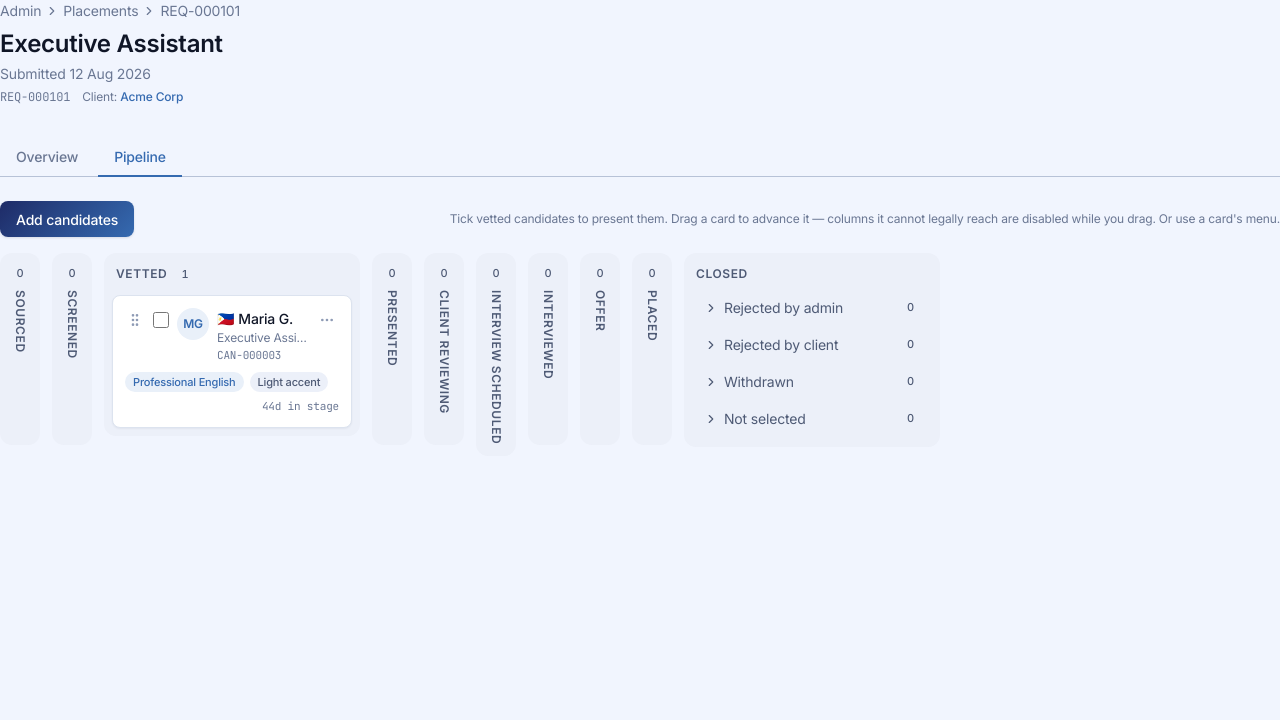
Test case: present flow › renders the exact client preview: visible fields, withheld PII, files
This screenshot has width=1280, height=720.
Check: the text "Maria G." is shown, box [238,310,293,327]
Step 1. Click the checkbox → (161, 320), box [153,312,169,328]
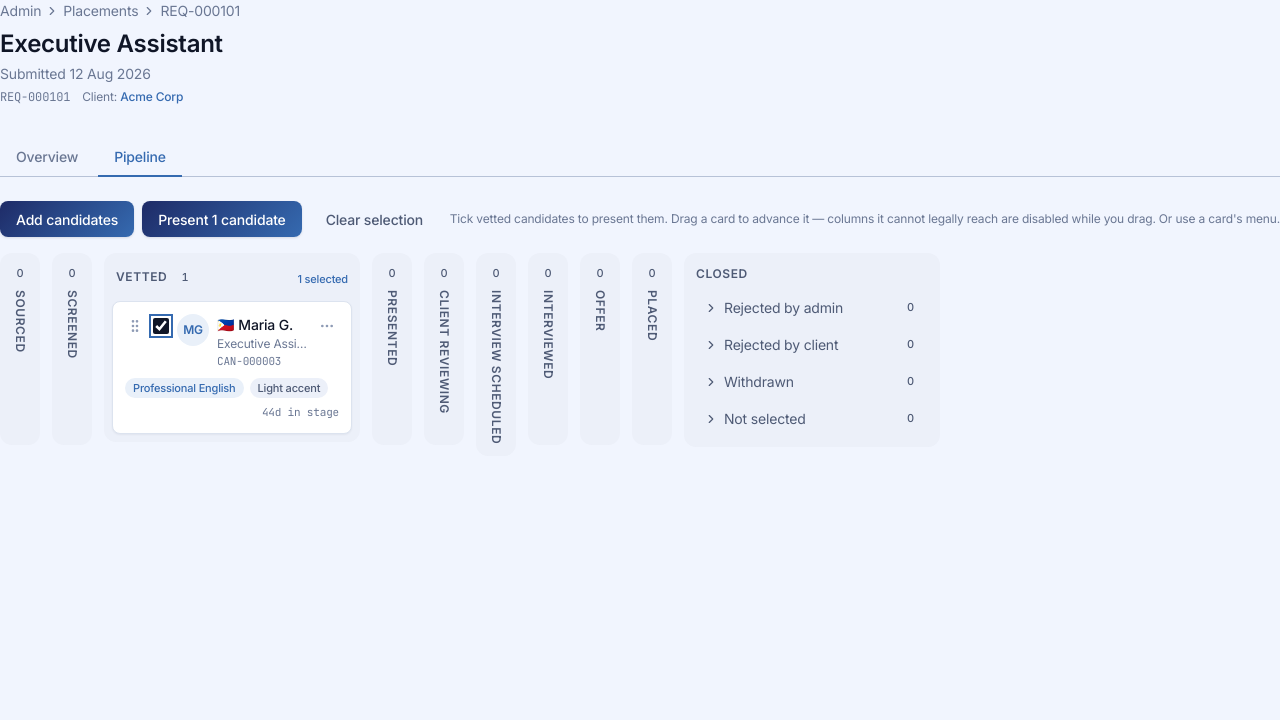
Step 2. Click the button "Present 1 candidate" → (222, 219), box [142,201,302,237]
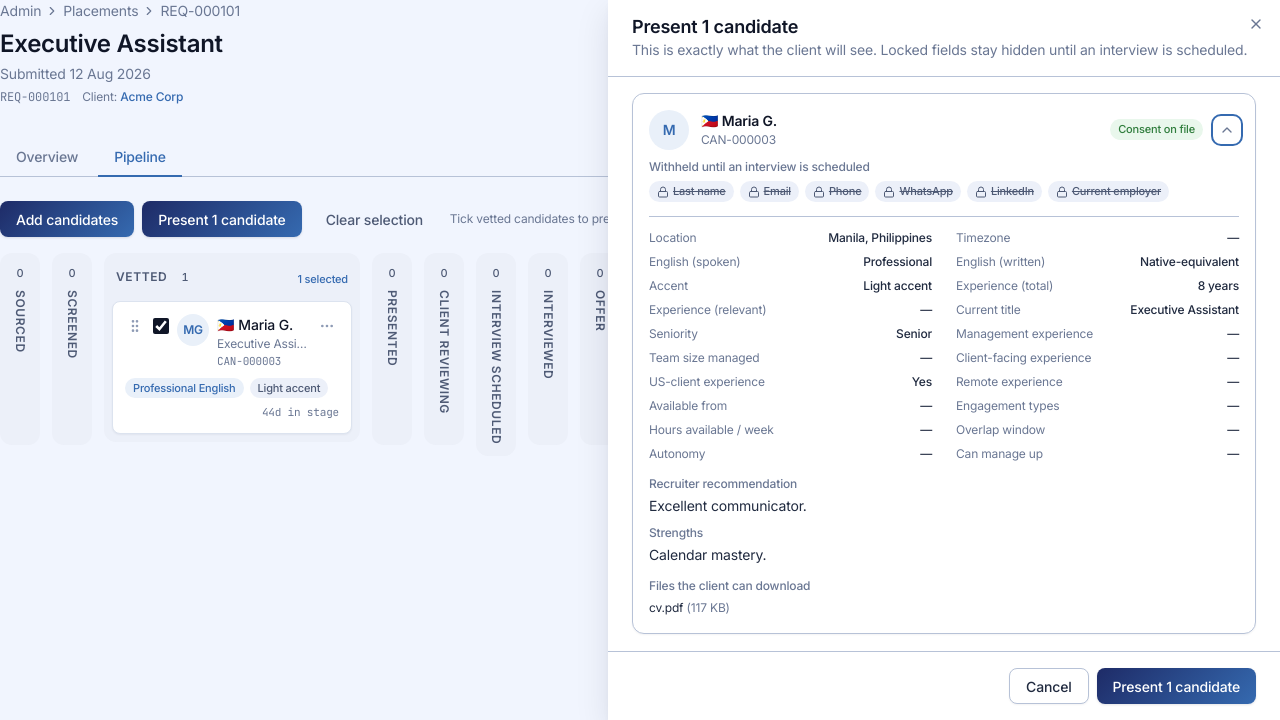
Check: the text "🇵🇭 Maria G." is shown, box [701,110,777,131]
Check: the text "Professional" is shown, box [863,252,932,270]
Check: the text "Native-equivalent" is shown, box [1140,252,1239,270]
